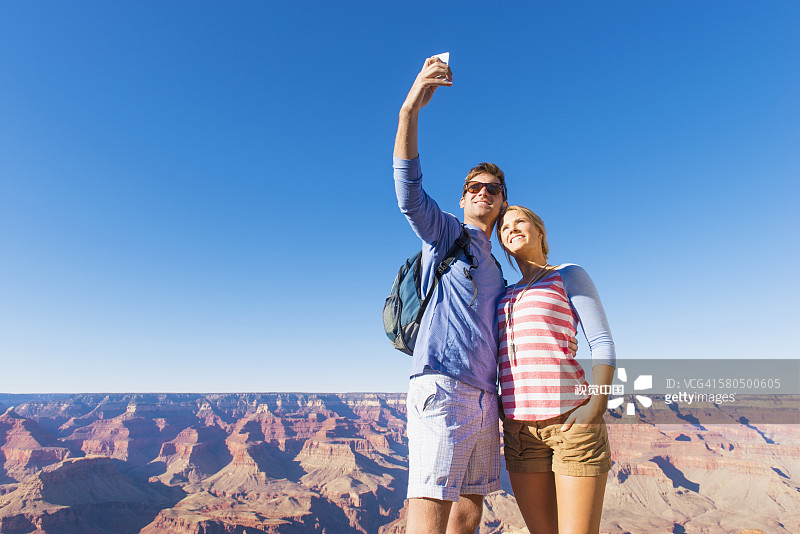taking photos: (391, 46, 461, 119)
